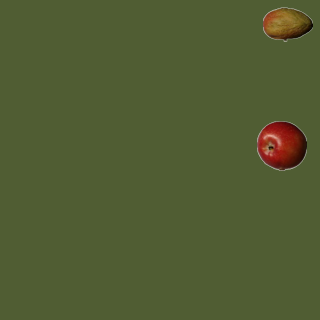Apple Braeburn: (256, 120, 306, 170)
Papaya: (262, 0, 312, 49)
